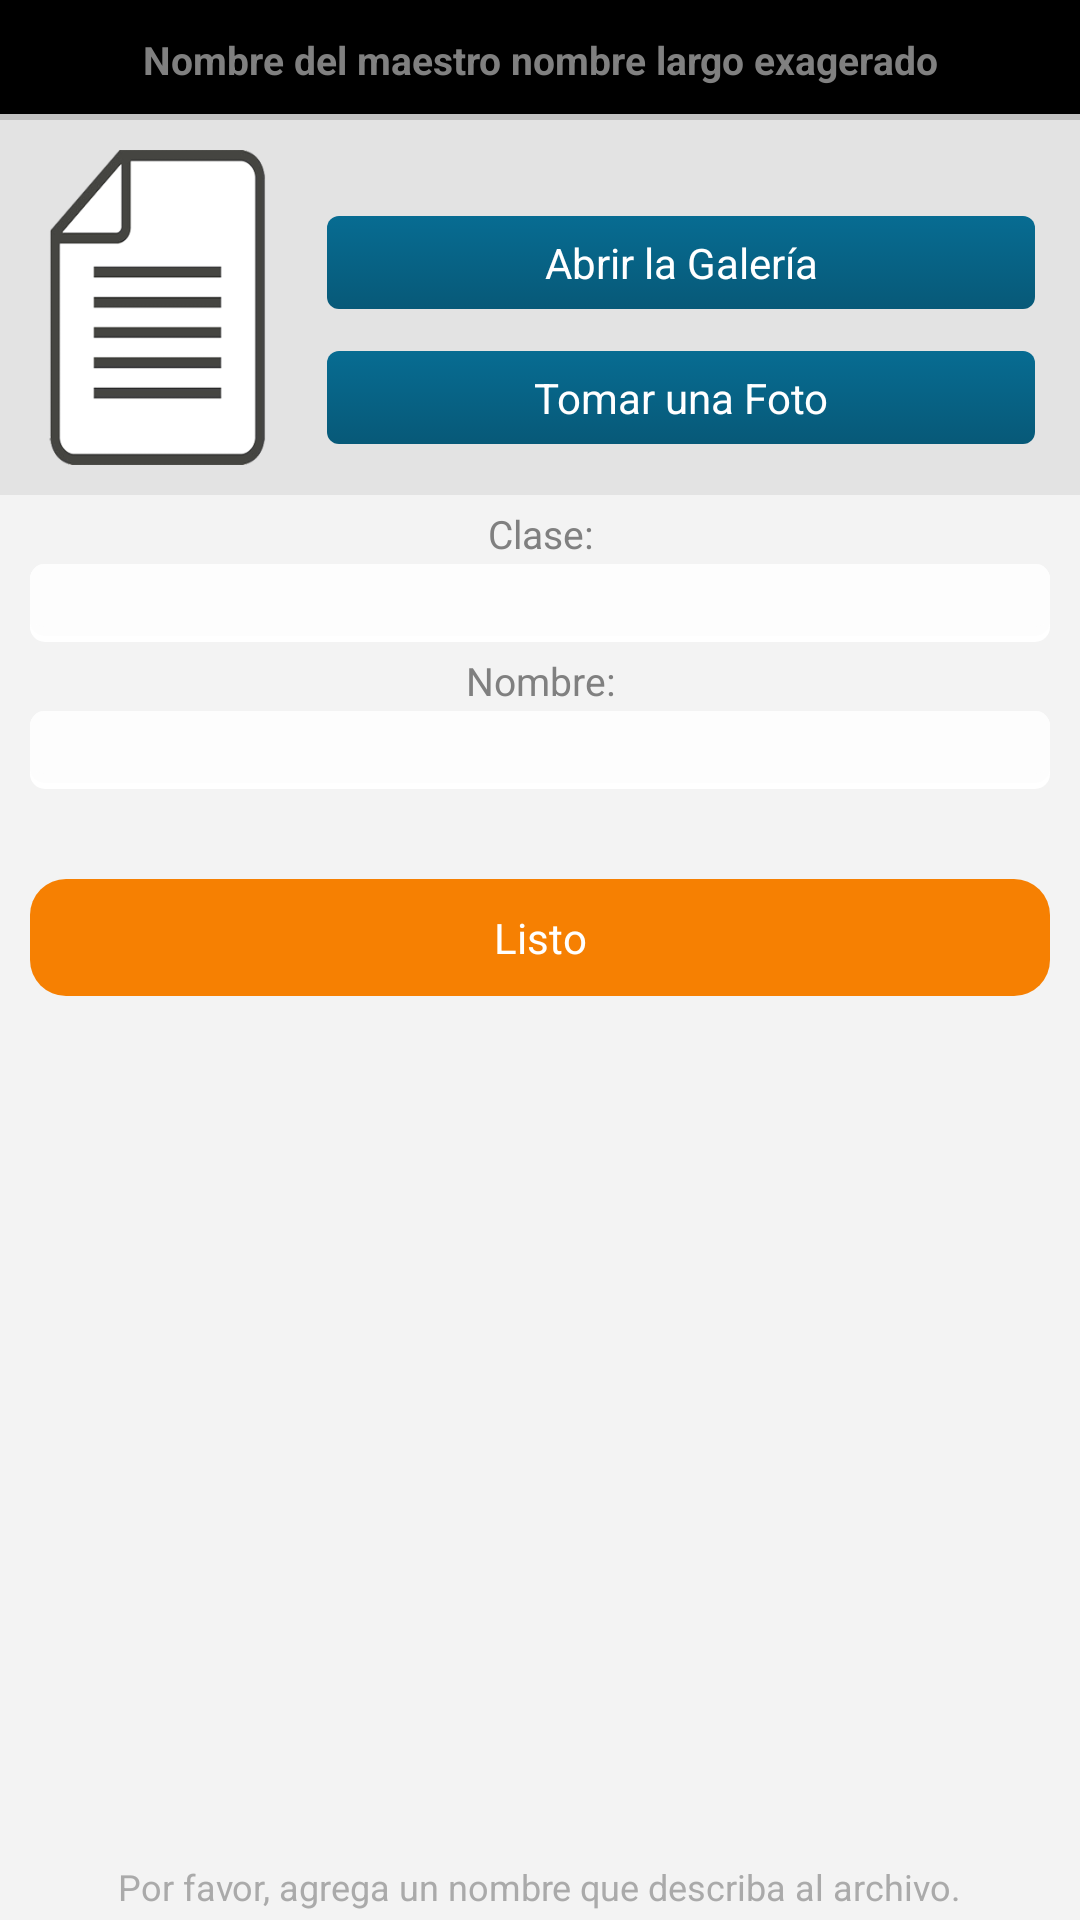

Locate icon controls on the screen. Image size 1080*1920, boxes as {"x1": x1, "y1": y1, "x2": x2, "y2": y2}.
document: {"x1": 49, "y1": 150, "x2": 265, "y2": 465}
